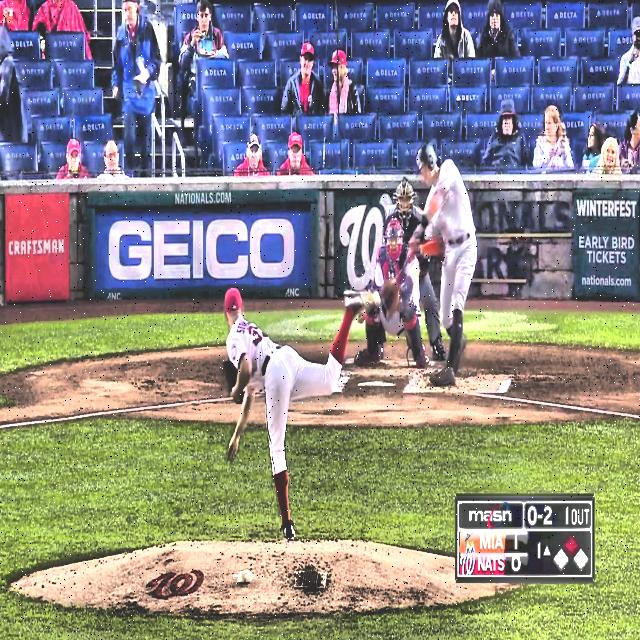baseball: (372, 289, 382, 307)
